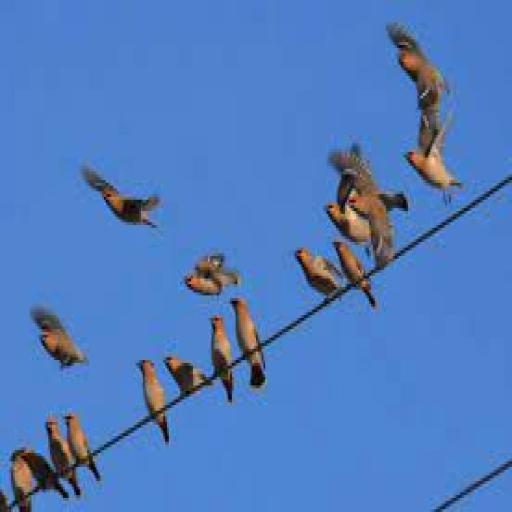birds: (331, 148, 410, 270), (384, 23, 458, 122), (73, 154, 161, 233), (403, 112, 467, 202), (29, 307, 91, 371), (233, 291, 271, 394), (332, 238, 380, 310), (45, 416, 84, 500), (293, 244, 345, 303), (136, 356, 170, 446), (63, 411, 104, 485), (23, 444, 71, 504), (163, 349, 212, 396), (211, 316, 235, 405), (9, 449, 38, 512), (184, 274, 224, 295)
